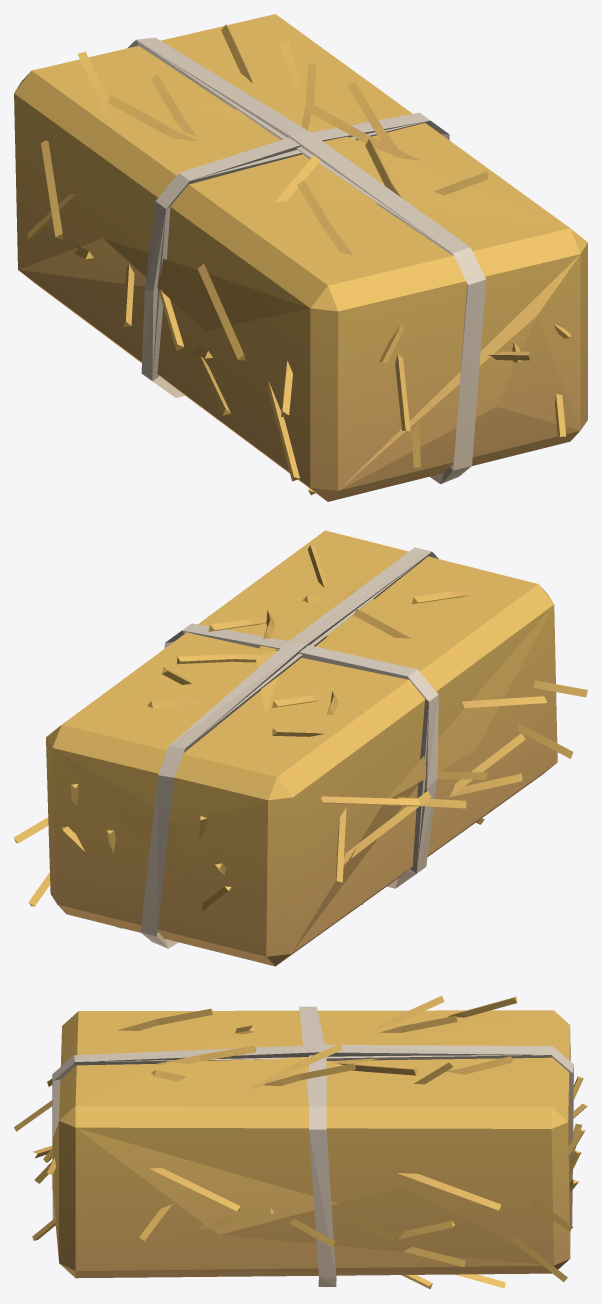
The model's file is haybale.glb.
3 views of the same model, one above another, from view 1: azimuth 30°, elevation 25°; view 2: azimuth 150°, elevation 25°; view 3: azimuth 270°, elevation 25° (orthographic). The views are drawn at different scales.
Parts seen in each view (by area): view 1: HayBale_mesh1, HayBale_mesh2; view 2: HayBale_mesh1, HayBale_mesh2; view 3: HayBale_mesh1, HayBale_mesh2.
Part boxes in pixels (x1,y1,x2,y2): HayBale_mesh1: (14,14,587,501); HayBale_mesh2: (136,40,565,489); HayBale_mesh1: (14,530,587,966); HayBale_mesh2: (71,552,431,955); HayBale_mesh1: (14,995,587,1288); HayBale_mesh2: (75,1008,551,1104).
Size of the model in its own units: 1.35 by 0.9721 by 2.24.
1 material, 1 textured.
